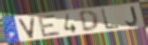4: (63, 12, 80, 34)
D: (78, 10, 100, 32)
E: (37, 14, 62, 39)
J: (125, 5, 139, 26)
L: (100, 7, 121, 31)
V: (17, 16, 36, 40)
